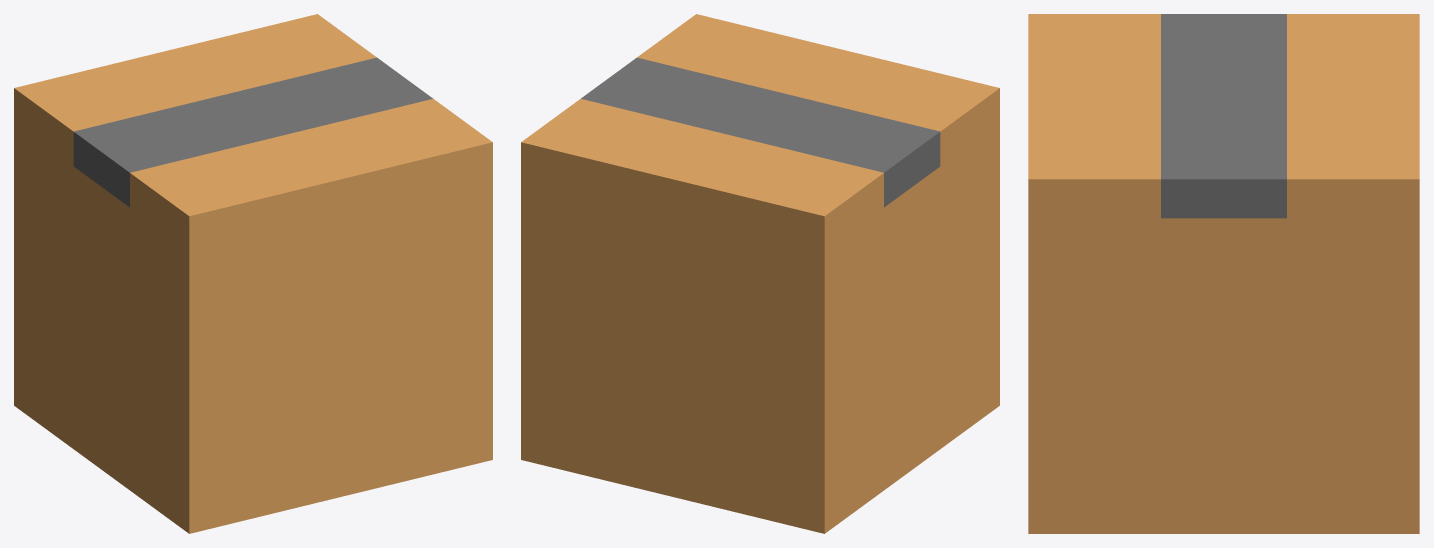
The model's file is carton1.fbx.
3 renders of one model, left to right at view 1: azimuth 30°, elevation 25°; view 2: azimuth 150°, elevation 25°; view 3: azimuth 270°, elevation 25°, orthographic. The views are drawn at different scales.
Visible parts, largest first — view 1: Cube.014; view 2: Cube.014; view 3: Cube.014.
Part boxes in pixels (x1,y1,x2,y2): Cube.014: (14, 14, 492, 533); Cube.014: (521, 14, 999, 533); Cube.014: (1028, 14, 1419, 533).
Bounding box in the file's own units: 330 × 330 × 330.
Materials: 1 (1 with a texture image).
